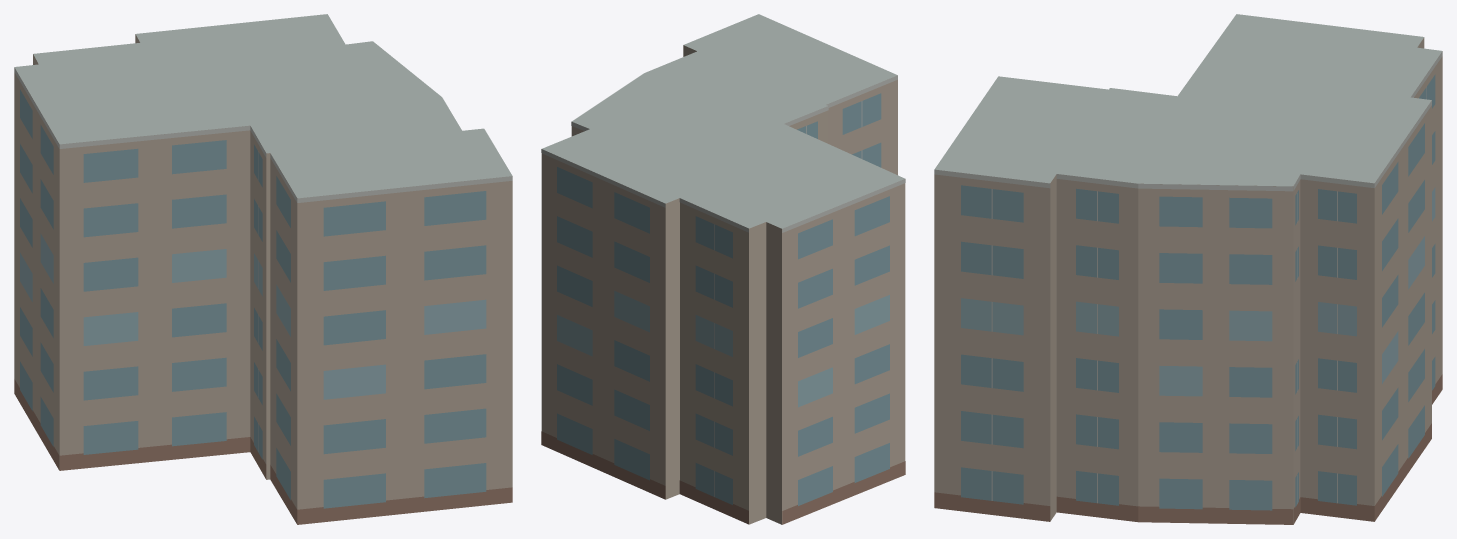
File: survey-upis-32870963.glb
3 renders of one model, left to right at view 1: azimuth 30°, elevation 25°; view 2: azimuth 150°, elevation 25°; view 3: azimuth 270°, elevation 25°, orthographic. The views are drawn at different scales.
Parts seen in each view (by area): view 1: survey-upis-32870963.tmp; view 2: survey-upis-32870963.tmp; view 3: survey-upis-32870963.tmp.
Boxes of the visible parts, left/top/right/bottom form: survey-upis-32870963.tmp: left=14, top=14, right=512, bottom=524; survey-upis-32870963.tmp: left=541, top=14, right=905, bottom=524; survey-upis-32870963.tmp: left=934, top=14, right=1442, bottom=524.
Bounding box in the file's own units: 18.53 × 16.95 × 23.08.
